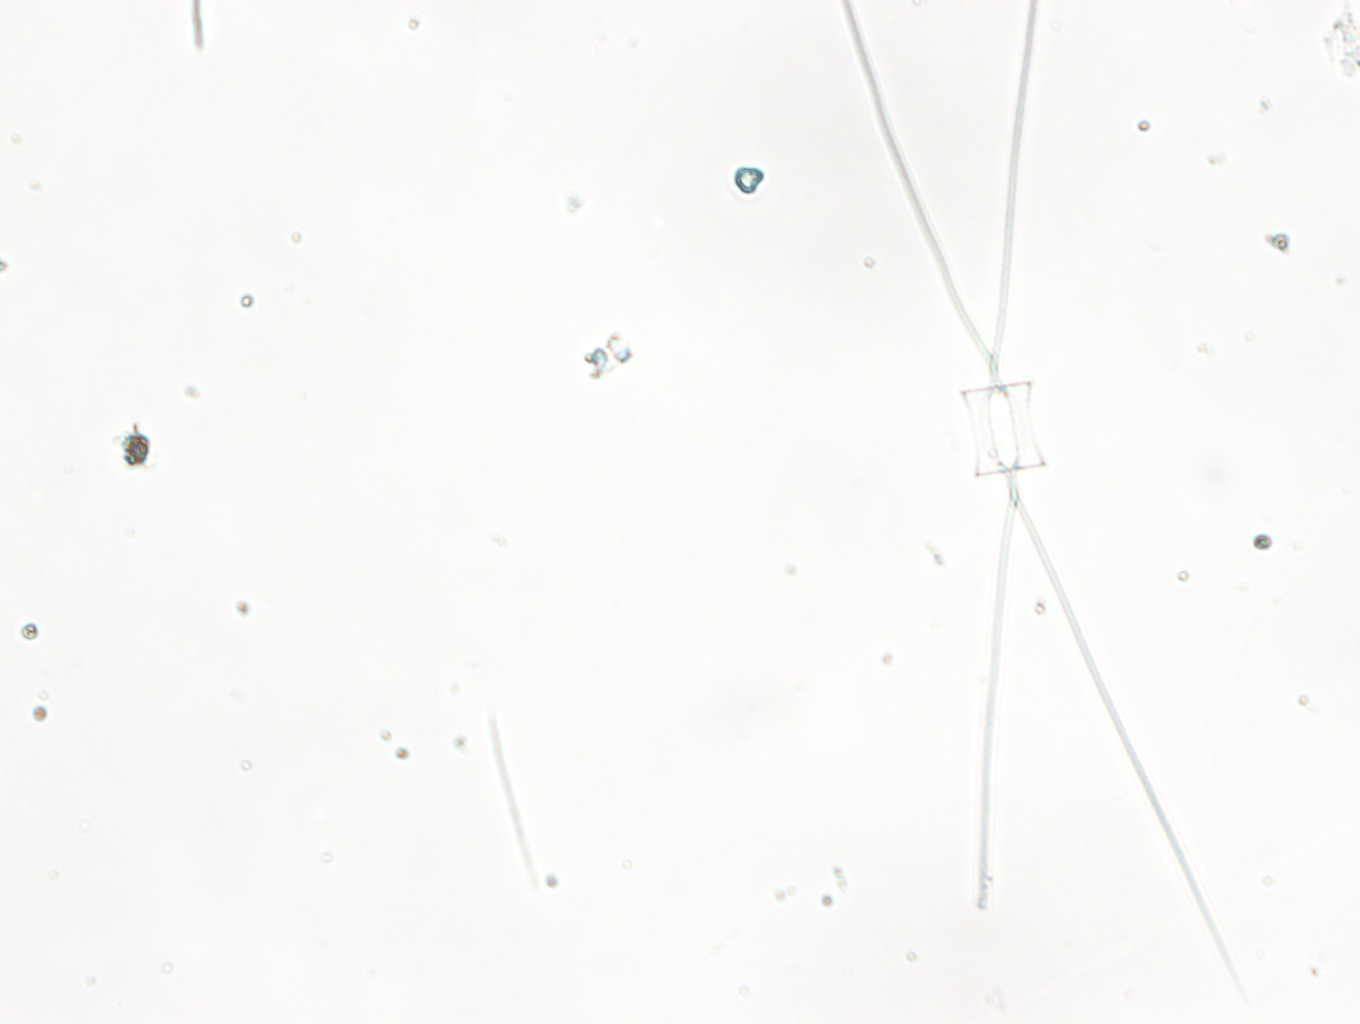chaetoceros: (832, 1, 1240, 975)
